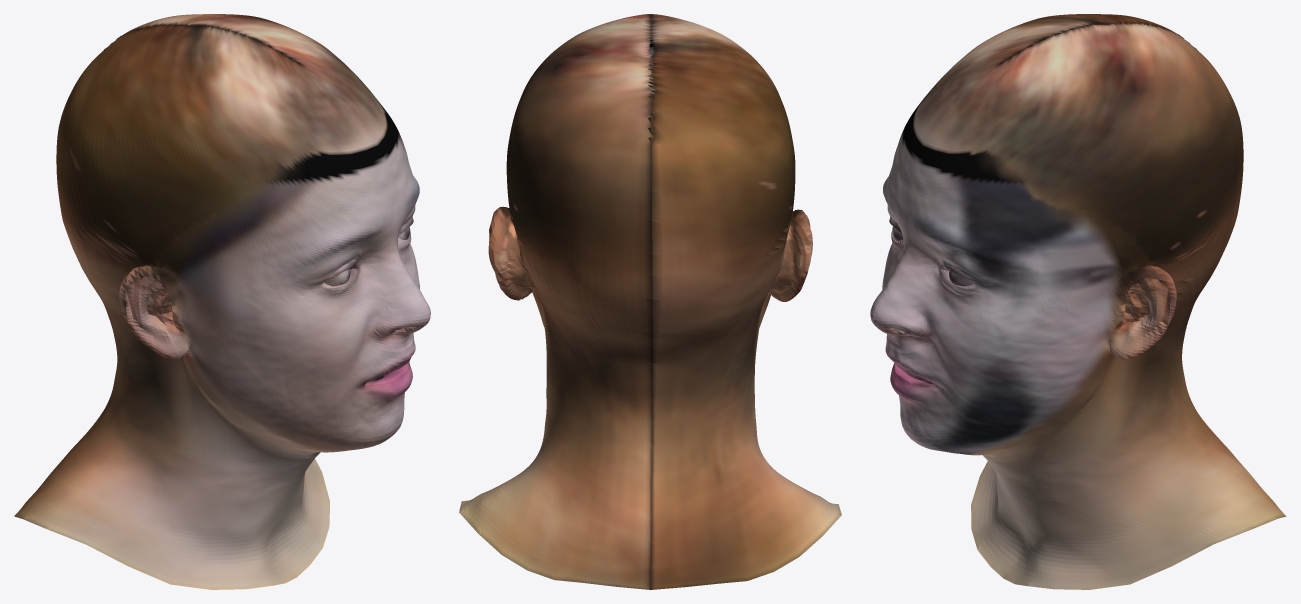
The model's file is cheo1_frame0000_detail.obj.
3 views of the same model, side by side, from view 1: azimuth 30°, elevation 25°; view 2: azimuth 150°, elevation 25°; view 3: azimuth 270°, elevation 25° (orthographic).
Size of the model in its own units: 0.2118 by 0.3211 by 0.2276.
